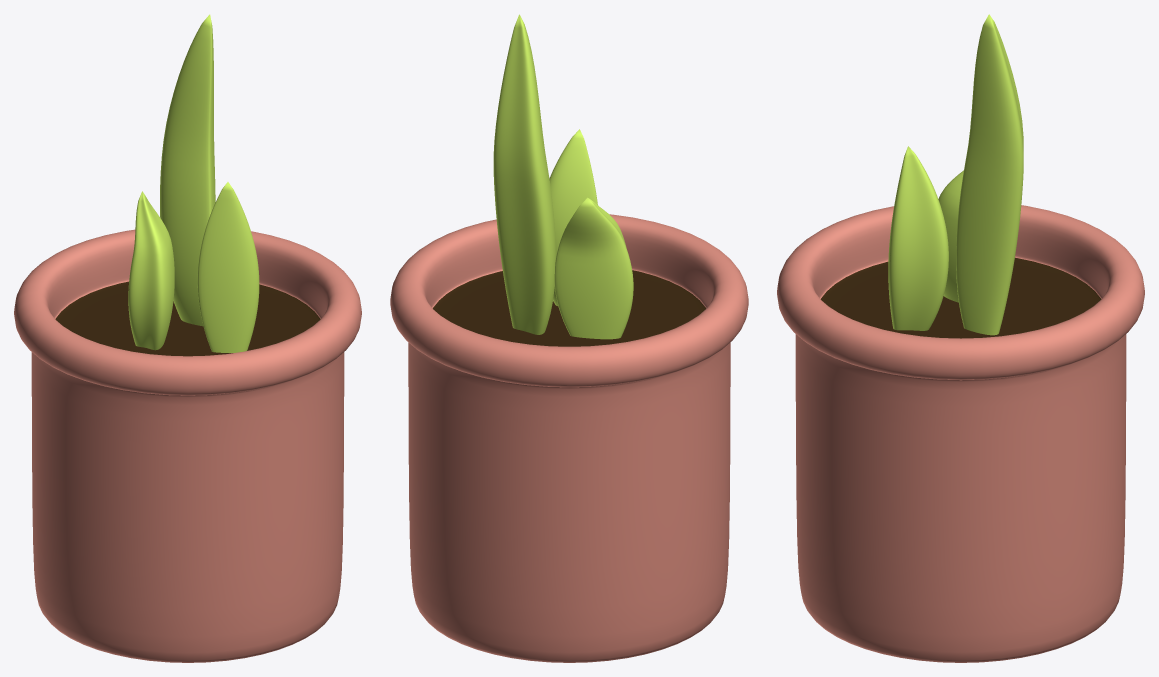
The model's file is MiniPlant2.fbx.
3 renders of one model, left to right at view 1: azimuth 30°, elevation 25°; view 2: azimuth 150°, elevation 25°; view 3: azimuth 270°, elevation 25°, orthographic. The views are drawn at different scales.
Parts seen in each view (by area): view 1: Circle; view 2: Circle; view 3: Circle.
Boxes of the visible parts, box(x1,y1,x2,y2) form: Circle: box(14, 14, 361, 662); Circle: box(390, 14, 748, 662); Circle: box(777, 14, 1144, 662).
Size of the model in its own units: 210 by 380 by 210.
